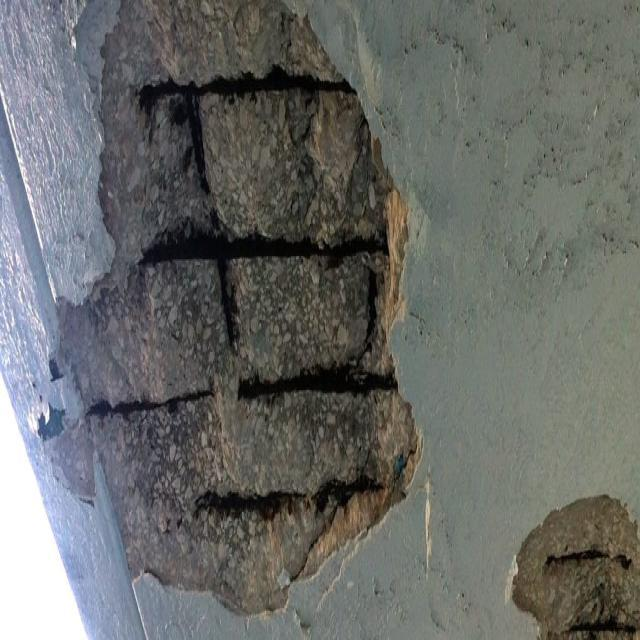Spalling: (38, 0, 419, 612), (511, 495, 639, 639)
corrosion: (140, 232, 386, 264), (141, 66, 355, 102), (238, 366, 396, 398), (89, 390, 212, 415)
